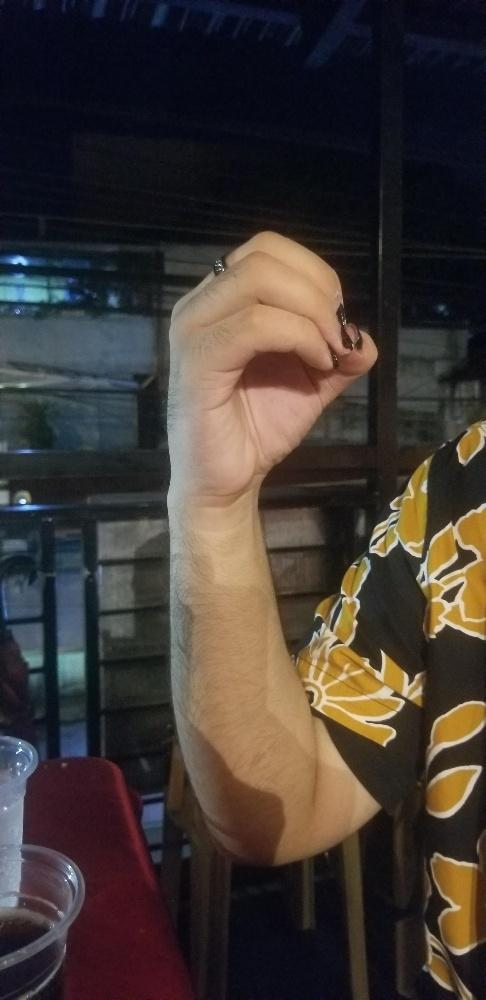o: (158, 228, 384, 500)
